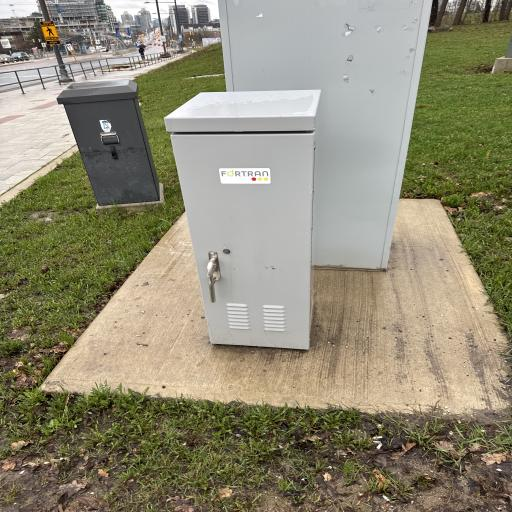Electrical Box: (213, 0, 435, 283), (163, 90, 338, 351), (56, 78, 162, 208)
